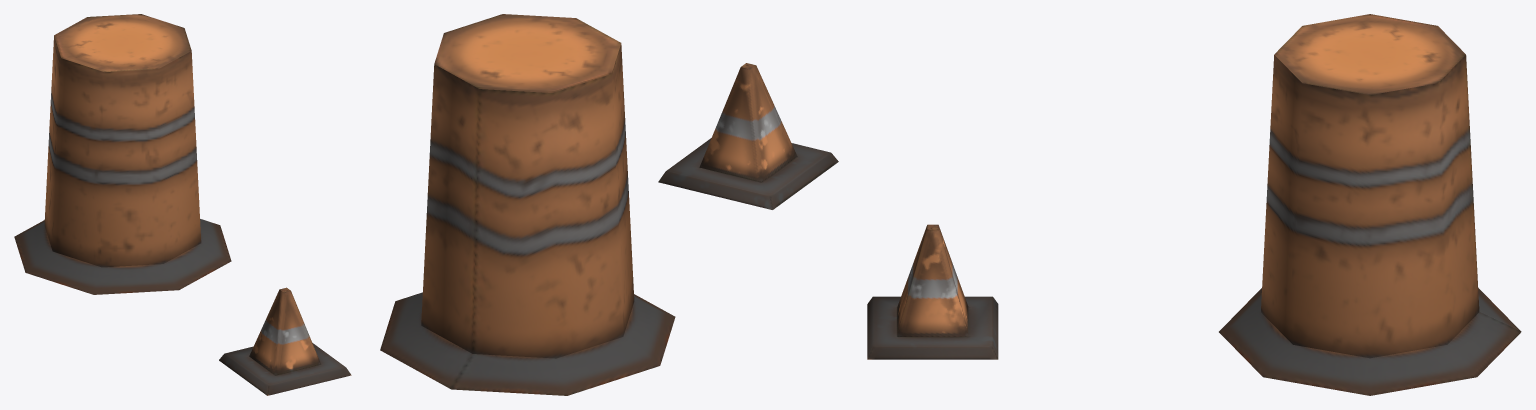
The model's file is TrafficCones.fbx.
3 renders of one model, left to right at view 1: azimuth 30°, elevation 25°; view 2: azimuth 150°, elevation 25°; view 3: azimuth 270°, elevation 25°, orthographic. The views are drawn at different scales.
Parts seen in each view (by area): view 1: TrafficConeBarrel, TrafficConeSmall; view 2: TrafficConeBarrel, TrafficConeSmall; view 3: TrafficConeBarrel, TrafficConeSmall.
Boxes of the visible parts, x1=… form: TrafficConeBarrel: x1=14, y1=14, x2=231, y2=294; TrafficConeSmall: x1=219, y1=287, x2=351, y2=395; TrafficConeBarrel: x1=380, y1=14, x2=675, y2=395; TrafficConeSmall: x1=658, y1=63, x2=838, y2=209; TrafficConeBarrel: x1=1219, y1=14, x2=1521, y2=395; TrafficConeSmall: x1=867, y1=224, x2=998, y2=359.
Bounding box in the file's own units: 299 × 139 × 140.
2 materials, 2 textured.
